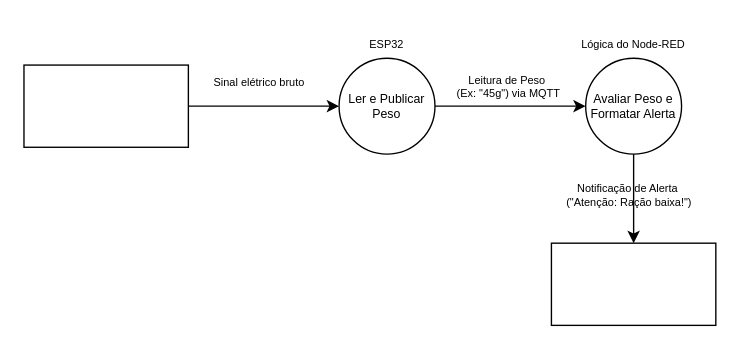
Some shapes in this 740 by 349 pixel diagram are drawn without their labels. Here are the shapes that lost their labels. From the top down, the centre of each, then its label:
At point 105,105: "Sensor de Peso (Célula de Carga)".
At point 633,283: "Tutor".
